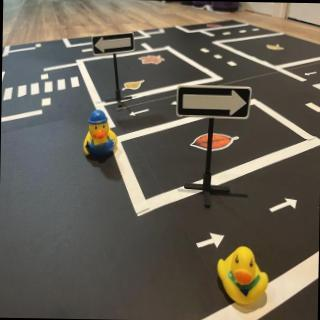duck_regular: (214, 245, 271, 309)
duck_specialty: (83, 106, 122, 164)
road_crosswalk: (2, 72, 82, 107)
road_oneway: (196, 229, 226, 253), (268, 196, 299, 219), (130, 107, 151, 118), (304, 70, 320, 80)
sign_oneway_left: (93, 31, 136, 56)
sign_oneway_right: (176, 86, 253, 120)
